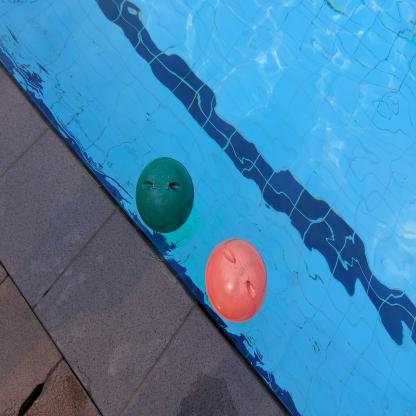green_buoy: (134, 154, 195, 235)
red_buoy: (203, 235, 270, 324)
